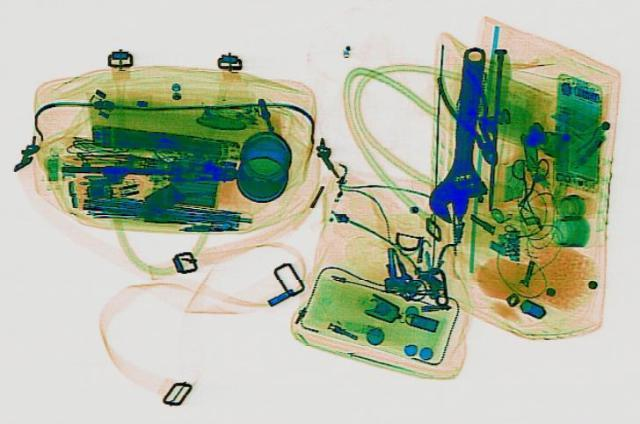Pliers: (430, 69, 512, 166)
Wrench: (425, 44, 503, 222)
